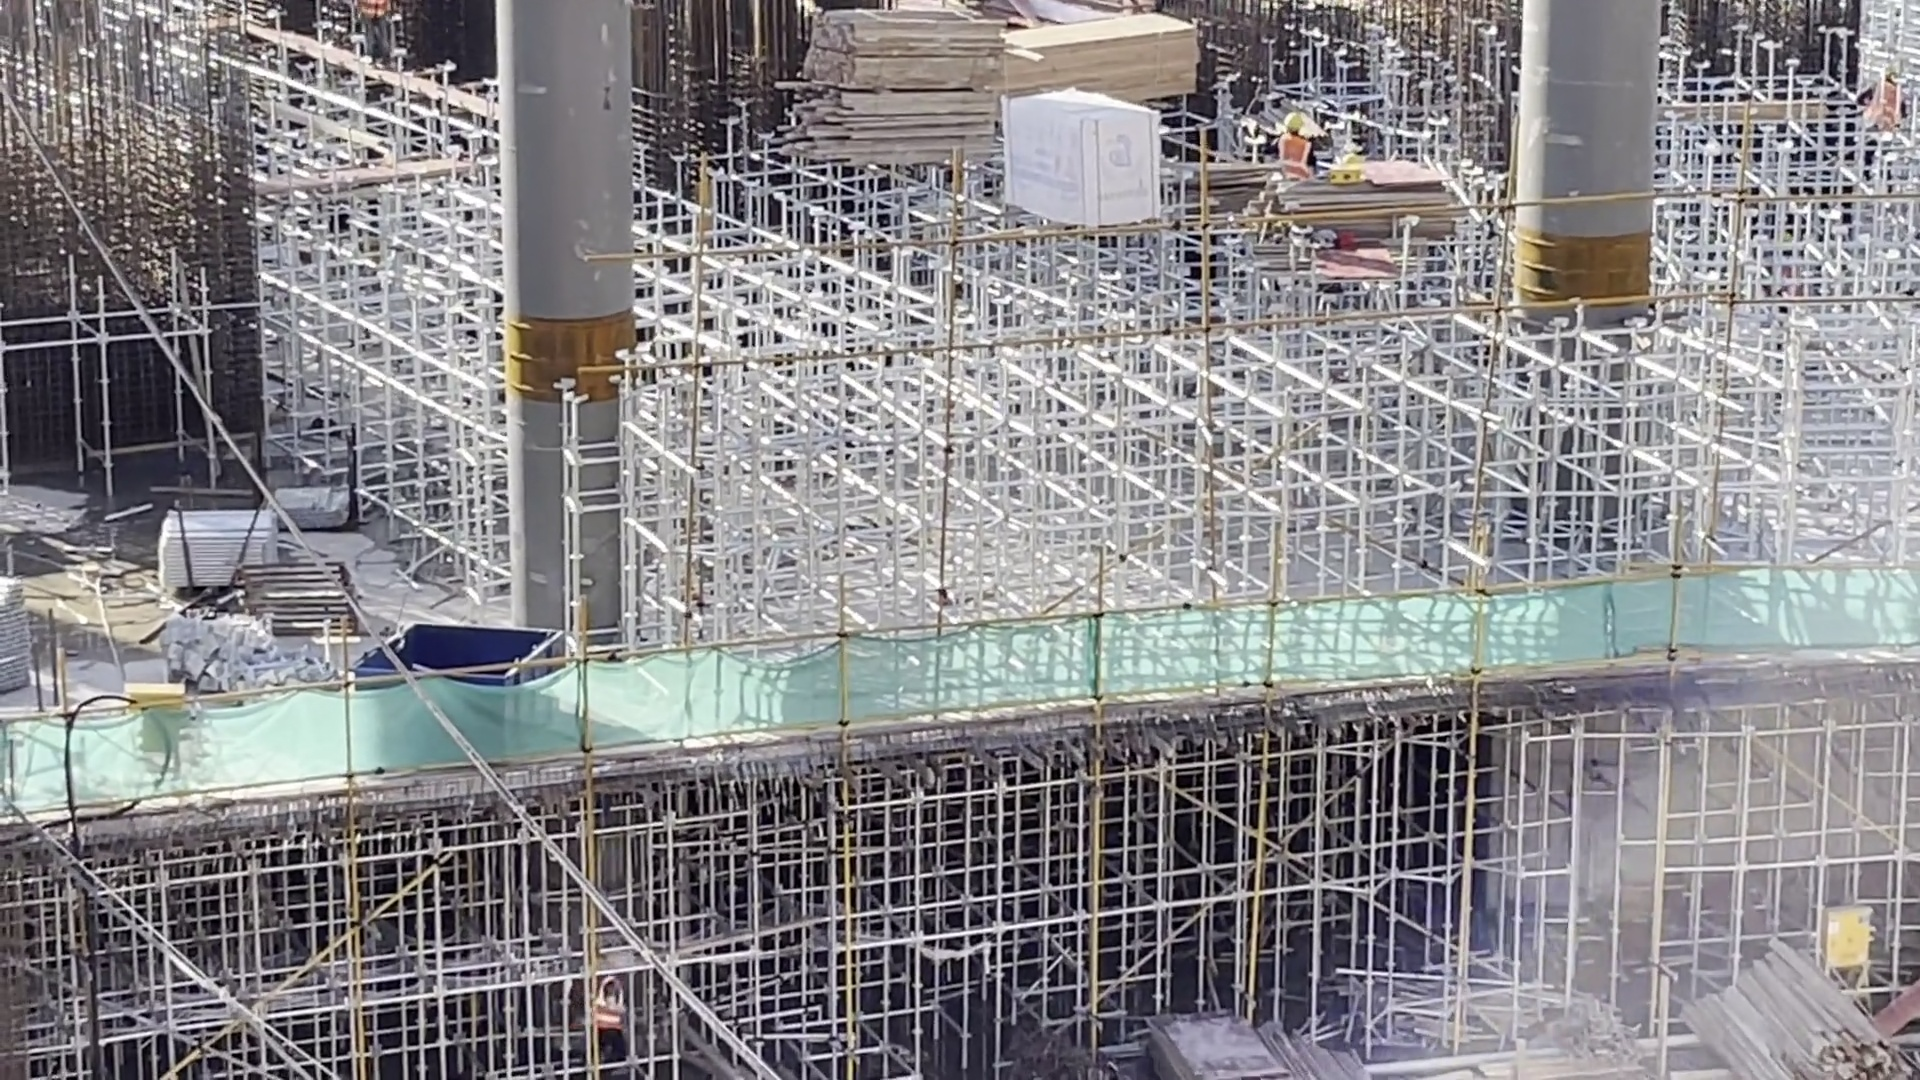board: (1266, 154, 1464, 246), (1147, 1001, 1299, 1080)
ebox: (1818, 904, 1888, 987), (121, 678, 191, 709)
helmet: (1282, 110, 1306, 133)
hopper: (348, 616, 570, 675)
person: (1265, 110, 1320, 180), (593, 978, 630, 1067)
scaffold: (160, 515, 237, 593)
vest: (1278, 135, 1313, 181)
wood: (777, 11, 1004, 167), (1678, 935, 1908, 1080), (1006, 13, 1200, 102)
